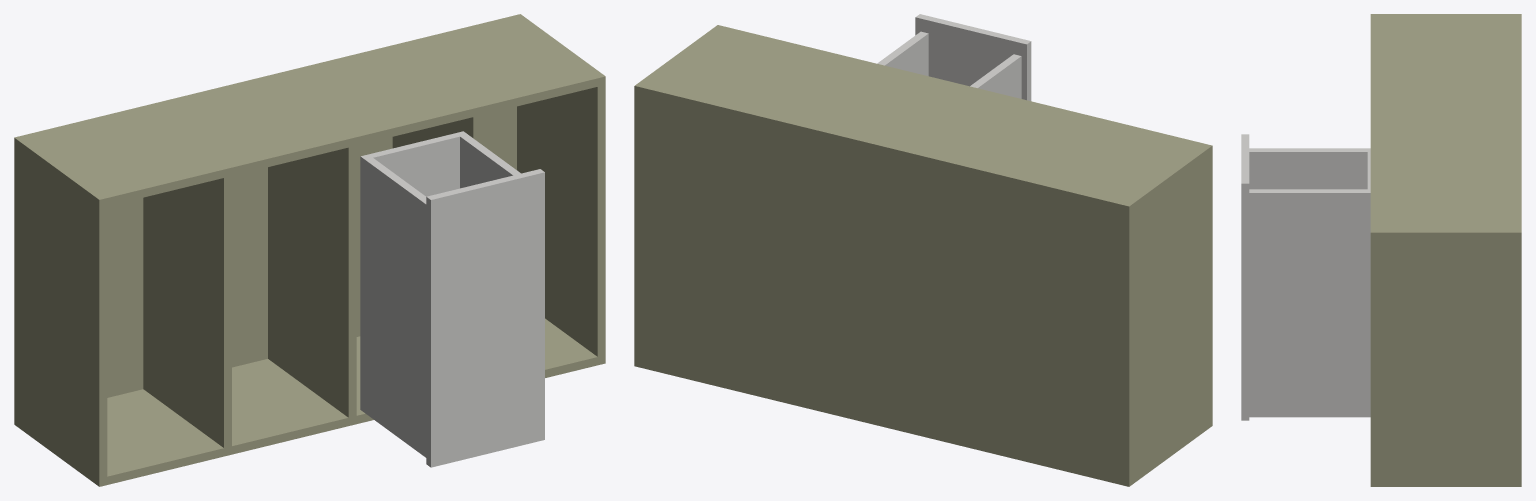
File: meuble_690c95211f5cd.glb
The picture shows the model from 3 angles, left to right: view 1: azimuth 30°, elevation 25°; view 2: azimuth 150°, elevation 25°; view 3: azimuth 270°, elevation 25°; orthographic projection. The views are drawn at different scales.
Visible parts, largest first — view 1: world; view 2: world; view 3: world.
Part boxes in pixels (<box>): world: <box>14,14,605,486</box>; world: <box>634,14,1212,486</box>; world: <box>1241,14,1521,486</box>.
Size of the model in its own units: 1.2 by 0.65 by 0.65.
